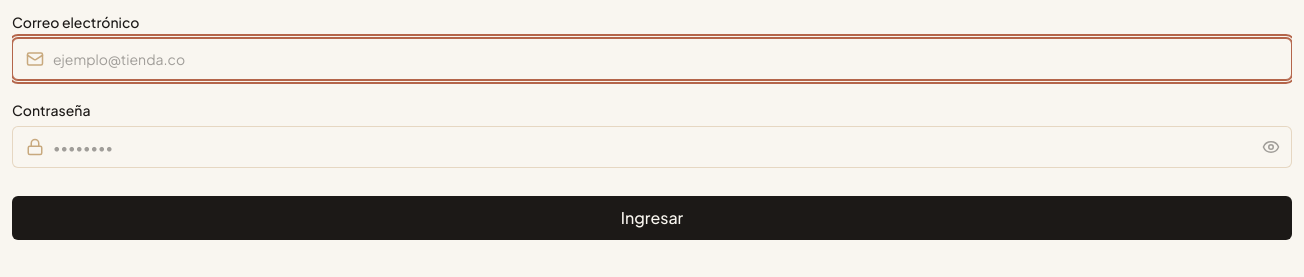
Test case: Auth Feature (sección 5 y sección 8 de 20-frontend-auth.md) › VALIDATION_ERROR con details coloca el mensaje en el campo indicado
Step 1. Type "ana@tienda.co" into the field labelled "Correo electrónico" → (652, 59), box [12,38,1292,80]
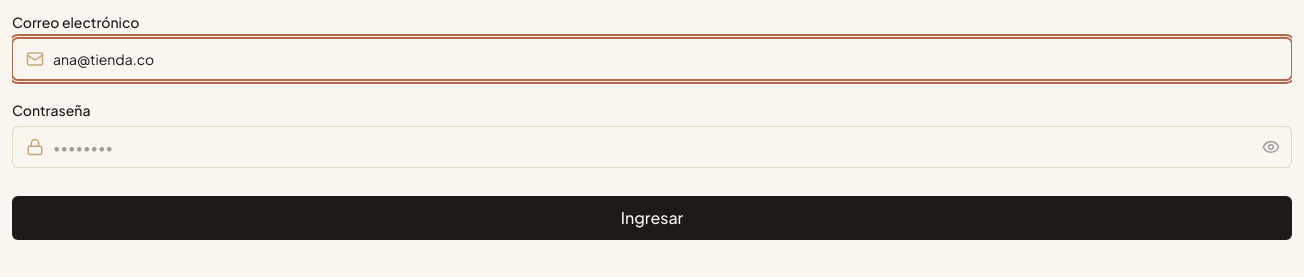
Step 2. Type "ClaveDemo123" into the password field labelled "Contraseña" → (652, 147), box [12,126,1292,168]
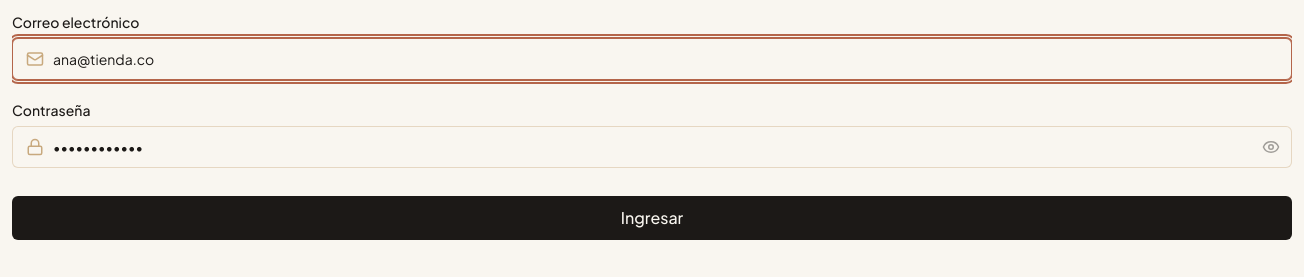
Step 3. Click the button "Ingresar" → (652, 218), box [12,196,1292,240]
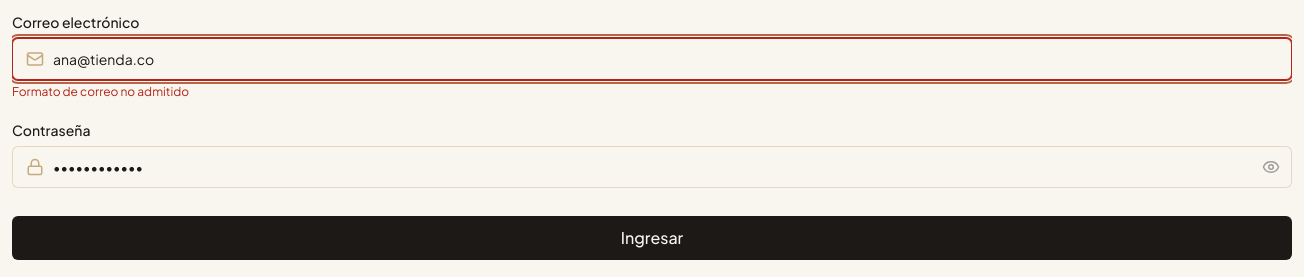
Result: the text "Formato de correo no admitido" is shown at [12,84,189,99]
